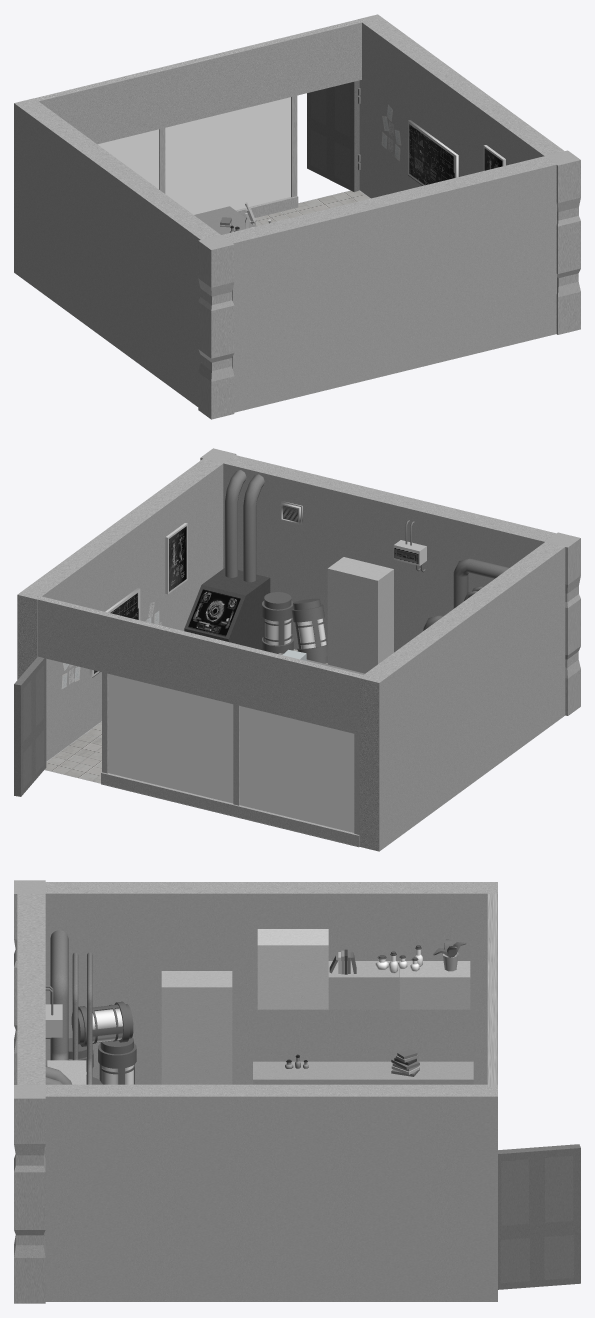
Rendered from Room1.fbx.
3 views of the same model, one above another, from view 1: azimuth 30°, elevation 25°; view 2: azimuth 150°, elevation 25°; view 3: azimuth 270°, elevation 25° (orthographic). The views are drawn at different scales.
Parts seen in each view (by area): view 1: Wall1.017, Wall1.008, Wall1.010, Wall1.011, Wall1.009, Cube.012, Wall1.001, Wall1.045, Wall1.005, Wall1.044, Wall1.013, Cube.023 (+11 smaller); view 2: Cube.012, Wall1.017, Wall1.005, Wall1.001, Wall1.044, Wall1.045, Wall1.008, Wall1.011, Wall1.010, Wall1.013, Wall1.014, Wall1.015 (+22 smaller); view 3: Wall1.012, Wall1.014, Wall1.015, Wall1.013, Wall1.044, Wall1.005, Wall1.045, Wall1.001, Cube.069, Cube.017, Wall1.004, Closet01_low.006 (+21 smaller).
Boxes of the visible parts, <box> form: Wall1.017: <box>34,18,365,144</box>; Wall1.008: <box>302,195,394,393</box>; Wall1.010: <box>464,156,556,353</box>; Wall1.011: <box>383,176,475,373</box>; Wall1.009: <box>222,215,313,412</box>; Cube.012: <box>97,97,290,214</box>; Wall1.001: <box>60,132,127,340</box>; Wall1.045: <box>107,166,173,374</box>; Wall1.005: <box>14,98,80,306</box>; Wall1.044: <box>154,201,220,406</box>; Wall1.013: <box>358,14,424,198</box>; Cube.023: <box>198,235,234,419</box>; Cube.012: <box>108,674,354,832</box>; Wall1.017: <box>34,595,363,734</box>; Wall1.005: <box>359,644,425,851</box>; Wall1.001: <box>406,610,472,816</box>; Wall1.044: <box>499,542,565,748</box>; Wall1.045: <box>453,576,518,783</box>; Wall1.008: <box>384,494,475,652</box>; Wall1.011: <box>303,474,395,643</box>; Wall1.010: <box>223,455,314,649</box>; Wall1.013: <box>17,561,83,761</box>; Wall1.014: <box>157,458,223,630</box>; Wall1.015: <box>111,492,176,629</box>; Wall1.012: <box>271,1084,384,1301</box>; Wall1.014: <box>45,1084,158,1301</box>; Wall1.015: <box>158,1084,271,1301</box>; Wall1.013: <box>385,1084,497,1301</box>; Wall1.044: <box>45,882,158,1084</box>; Wall1.005: <box>385,882,497,1084</box>; Wall1.045: <box>158,882,271,1084</box>; Wall1.001: <box>271,882,384,1061</box>; Cube.069: <box>498,1144,580,1289</box>; Cube.017: <box>14,1085,45,1303</box>; Wall1.004: <box>253,1061,473,1084</box>; Closet01_low.006: <box>257,929,328,977</box>.
Size of the model in its own units: 7.91 by 3.5 by 8.68.
